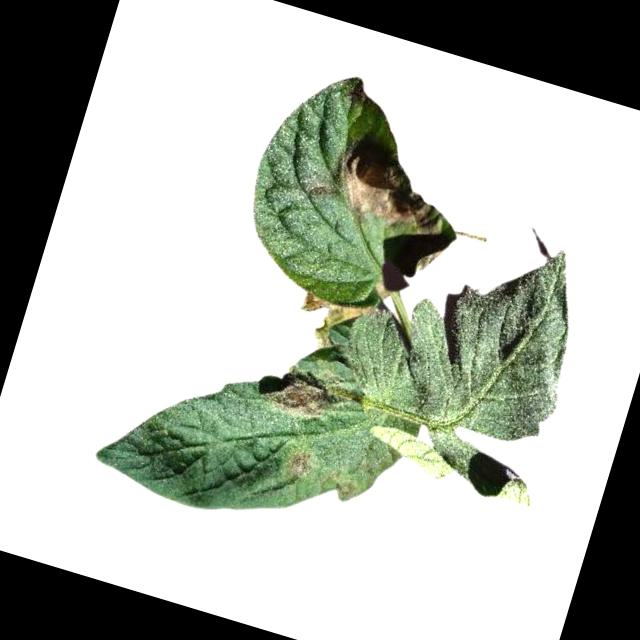Late_blight: (322, 140, 454, 244), (289, 284, 382, 362), (261, 364, 338, 426), (281, 444, 317, 480)
healthy: (332, 200, 601, 458)
